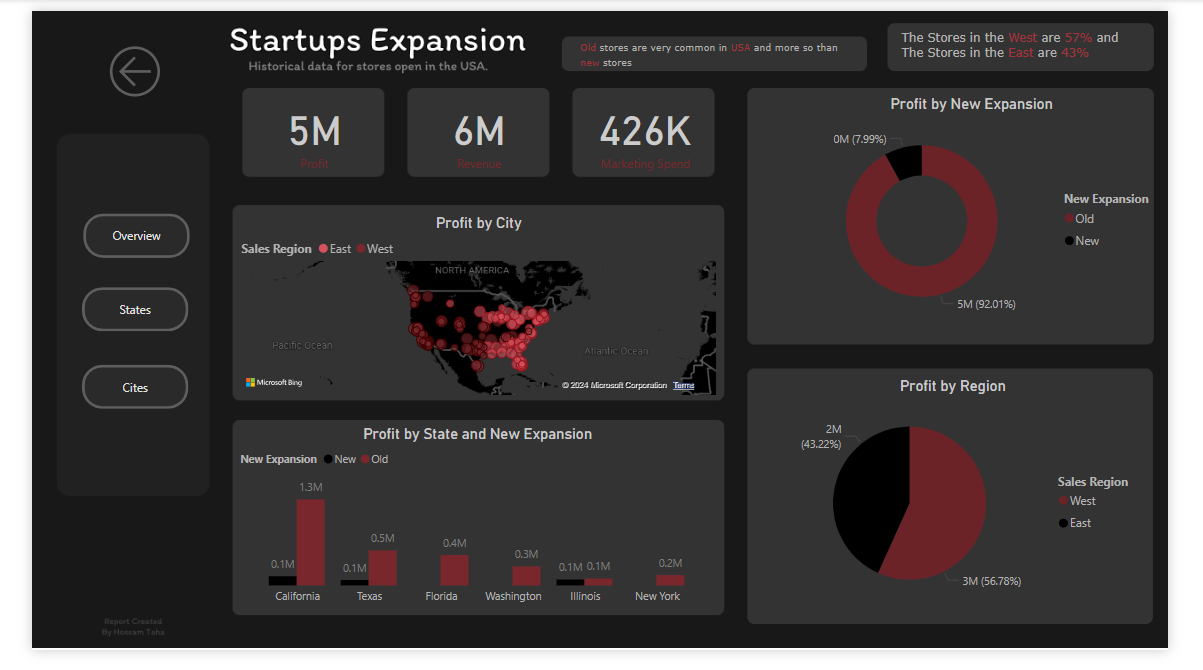

Layout of this report page (visuals, bound fields, positions):
{"tool":"powerbi","page":{"name":"Overview","canvas":[1280,720],"ordinal":0},"visuals":[{"type":"map","title":"Profit by City","fields":{"Category":["Startups-expansion.City"],"Size":["Sum(Startups-expansion.Profit)"],"Series":["Startups-expansion.Sales Region"]},"box":[231.2,227.5,545,210],"z":0},{"type":"pieChart","title":"Profit by Region","fields":{"Category":["Startups-expansion.Sales Region"],"Y":["Sum(Startups-expansion.Profit)"]},"box":[816.2,412.5,441.2,265],"z":1000},{"type":"donutChart","title":"Profit by New Expansion","fields":{"Category":["Startups-expansion.New Expansion"],"Y":["Sum(Startups-expansion.Profit)"]},"box":[838.6,94.3,441.4,265.7],"z":2000},{"type":"clusteredColumnChart","title":"Profit by State and New Expansion","fields":{"Category":["Startups-expansion.State"],"Y":["Sum(Startups-expansion.Profit)"],"Series":["Startups-expansion.New Expansion"]},"box":[230,466.2,545,211.2],"z":3000},{"type":"card","title":"Profit","fields":{"Values":["Sum(Startups-expansion.Profit)"]},"box":[242.5,92.5,151.2,92.5],"z":4000},{"type":"card","title":"Profit","fields":{"Values":["Sum(Startups-expansion.Revenue)"]},"box":[427.5,92.5,151.2,92.5],"z":5000},{"type":"card","title":"Profit","fields":{"Values":["Sum(Startups-expansion.Marketing Spend)"]},"box":[615,92.5,151.2,92.5],"z":6000},{"type":"textbox","box":[975,16,262.5,53.8],"z":7000},{"type":"textbox","box":[613,25,318.8,58.8],"z":8000},{"type":"actionButton","box":[80,32.7,75.1,71.4],"z":9000},{"type":"actionButton","box":[58.1,227.6,120,50],"z":10000},{"type":"actionButton","box":[56.9,311.1,119.8,49.6],"z":11000},{"type":"actionButton","box":[56.9,398.3,119.8,49.6],"z":12000}]}

Visuals, with their boxes in screenshot pixels (x1, y1, x2, y2), scaled from the page's 1280x720 canvas onto the 1203x670 screenshot:
"Profit by City" map: (217,212,730,407)
"Profit by Region" pieChart: (767,384,1182,630)
"Profit by New Expansion" donutChart: (788,88,1202,335)
"Profit by State and New Expansion" clusteredColumnChart: (216,434,728,630)
"Profit" card: (228,86,370,172)
"Profit" card: (402,86,544,172)
"Profit" card: (578,86,720,172)
textbox: (916,15,1163,65)
textbox: (576,23,876,78)
actionButton: (75,30,146,97)
actionButton: (55,212,167,258)
actionButton: (53,289,166,336)
actionButton: (53,371,166,417)
